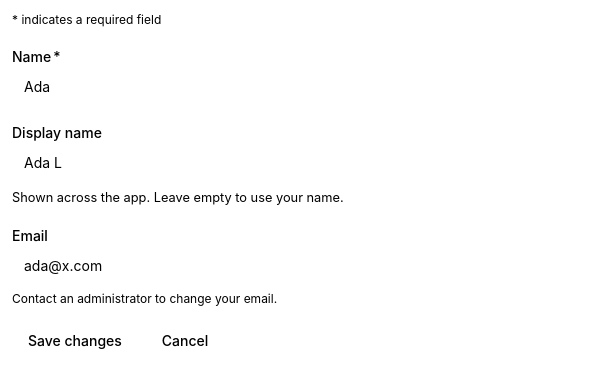
Test: ProfileForm › Cancel restores the server-supplied values
The image size is (606, 377).
Replace the text in the field labelled "Name" with "Grace H" at [300, 86], box [12,68,588,104]
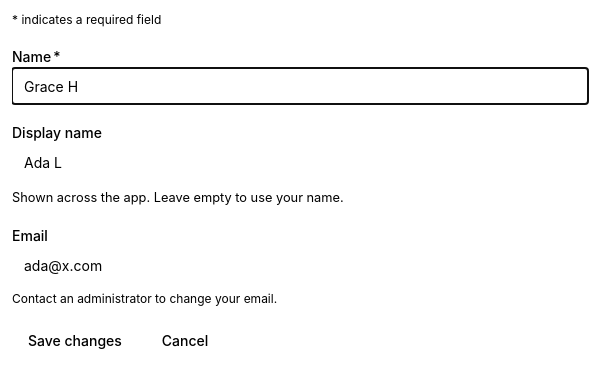
Click the button "Cancel" at [185, 341], box [146,323,224,359]
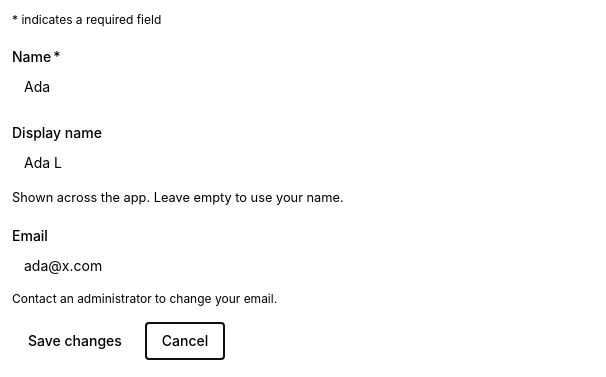
Check: the field labelled "Display name" holds "Ada L", box [12,144,588,180]
Check: the field labelled "Name" holds "Ada", box [12,68,588,104]
